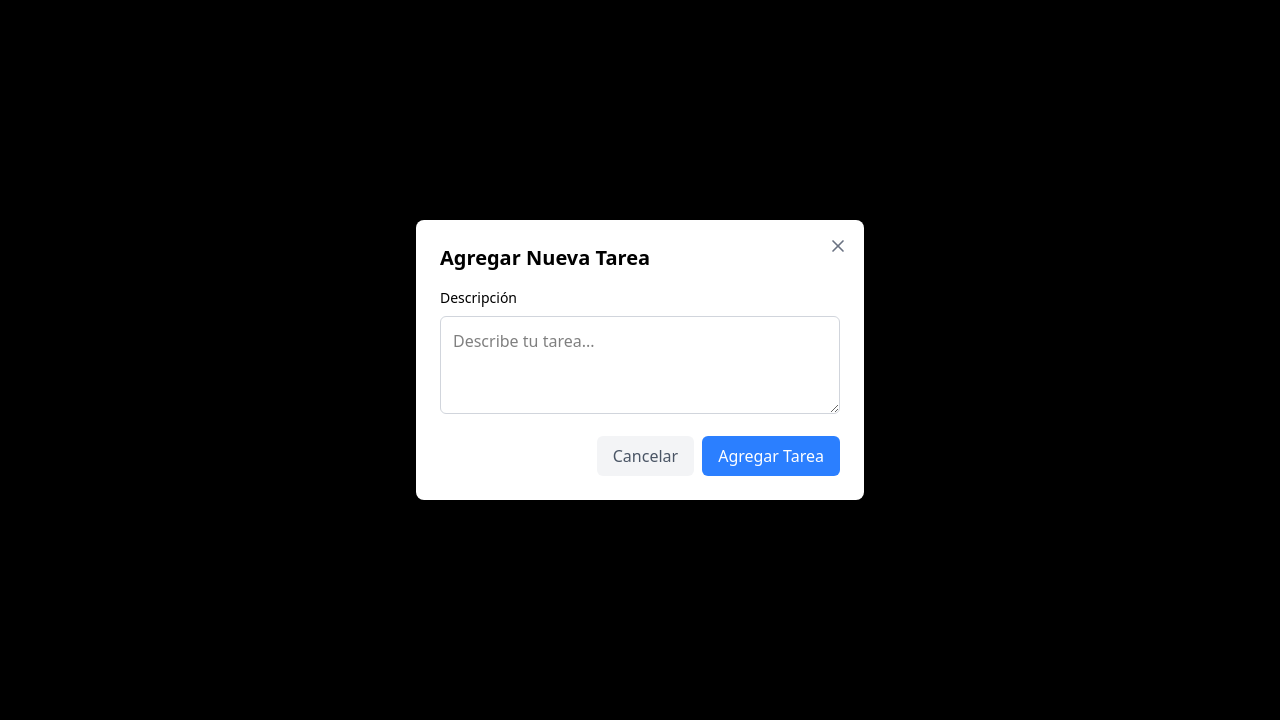
Scenario: AddTaskModal › should show error if description is empty
Click the button "Agregar Tarea". click: [771, 456]
box: [702, 436, 840, 476]
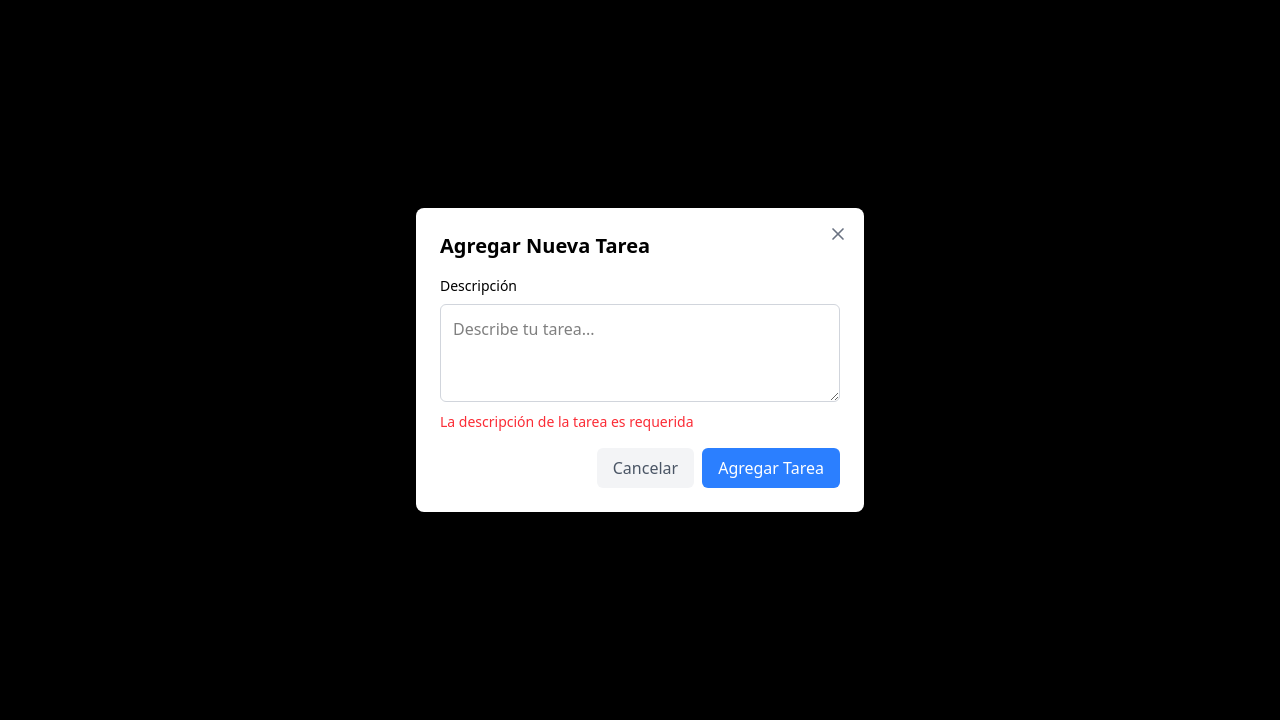
Check: the text "La descripción de la tarea es requerida" is shown, box [440, 412, 694, 431]
